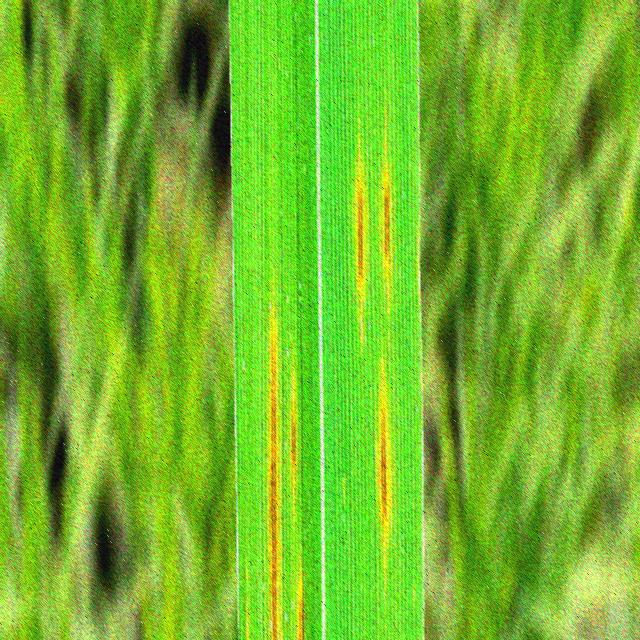NBS: (270, 327, 277, 640), (381, 390, 386, 533), (357, 173, 362, 290), (384, 176, 389, 267), (291, 385, 295, 480), (298, 575, 303, 640)
